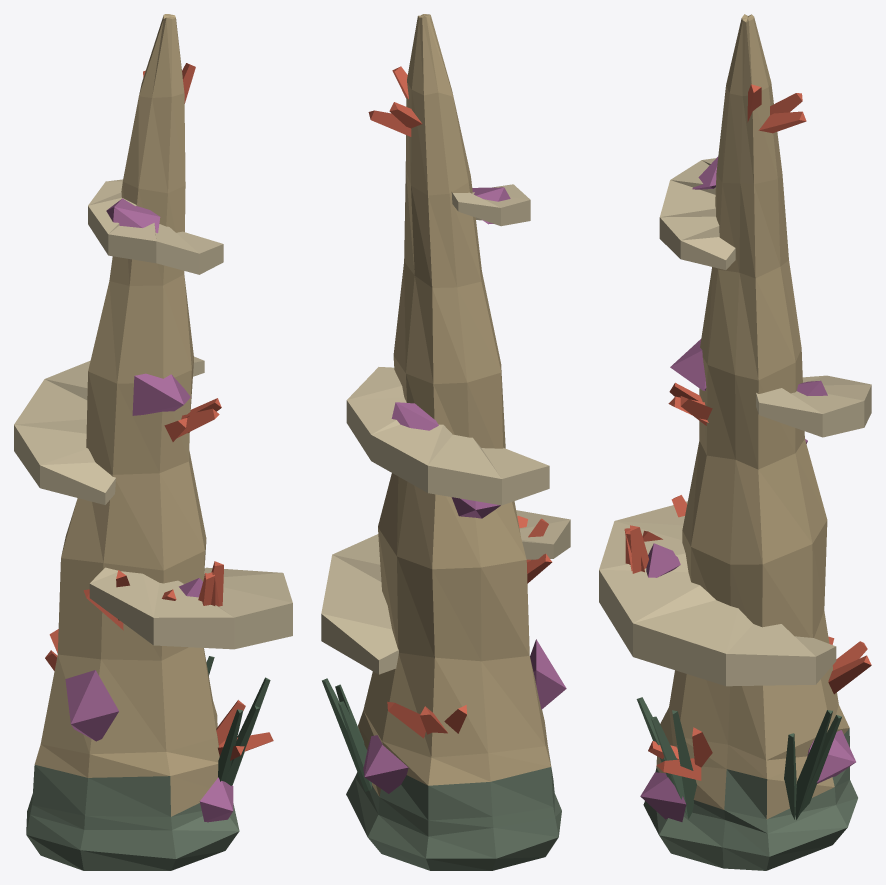
File: coral-pinnacle.glb
The picture shows the model from 3 angles, left to right: view 1: azimuth 30°, elevation 25°; view 2: azimuth 150°, elevation 25°; view 3: azimuth 270°, elevation 25°; orthographic projection. The views are drawn at different scales.
Parts seen in each view (by area): view 1: coral-pinnacle-shell, algae-a-blades; view 2: coral-pinnacle-shell, algae-b-blades; view 3: coral-pinnacle-shell, algae-b-blades, algae-a-blades.
Part boxes in pixels (x1,y1,x2,y2): coral-pinnacle-shell: (14,14,292,870); algae-a-blades: (218,677,270,785); coral-pinnacle-shell: (321,14,570,870); algae-b-blades: (322,678,371,791); coral-pinnacle-shell: (599,14,871,870); algae-b-blades: (784,710,841,819); algae-a-blades: (636,697,696,819).
Size of the model in its own units: 1.25 by 4.01 by 1.2.
